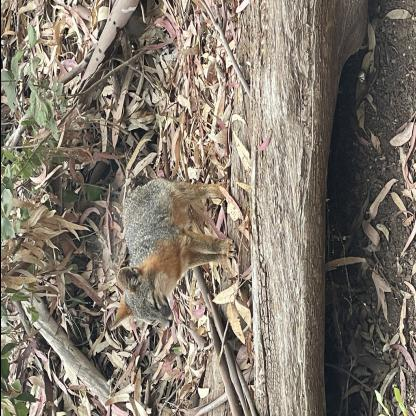zorro: (100, 163, 240, 337)
